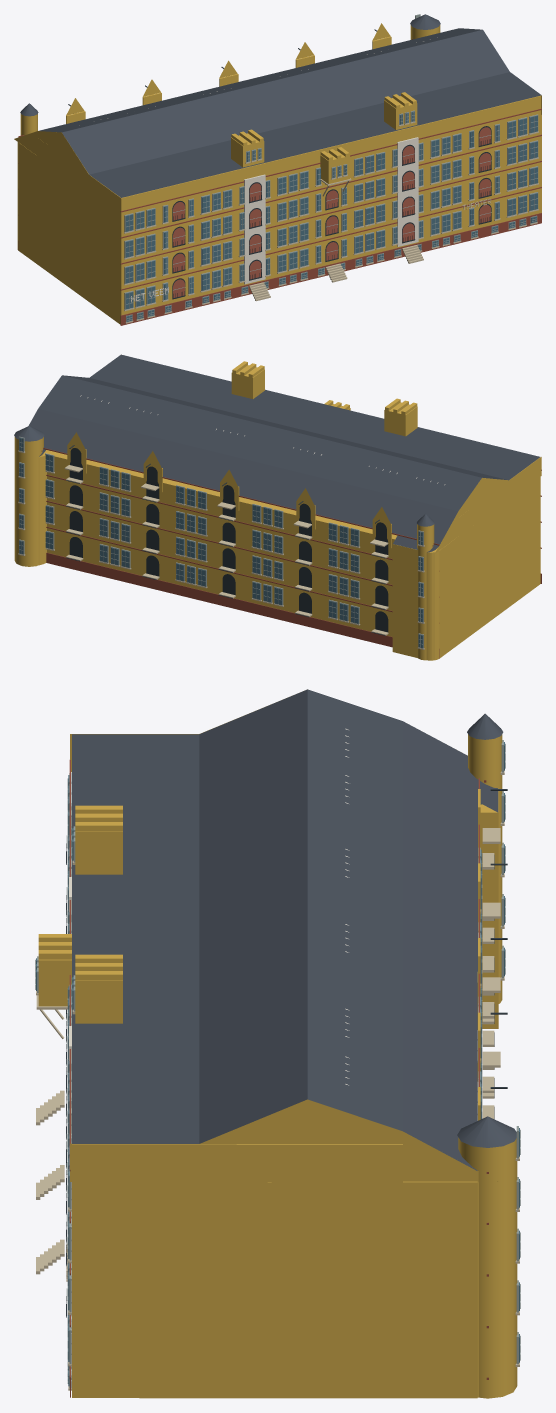
File: het-veem.glb
3 renders of one model, top to bottom at view 1: azimuth 30°, elevation 25°; view 2: azimuth 150°, elevation 25°; view 3: azimuth 270°, elevation 25°, orthographic. The views are drawn at different scales.
Parts seen in each view (by area): view 1: het-veem; view 2: het-veem; view 3: het-veem.
Part boxes in pixels (x1=…): het-veem: x1=14, y1=14, x2=541, y2=325; het-veem: x1=14, y1=354, x2=541, y2=660; het-veem: x1=35, y1=689, x2=520, y2=1398.
Size of the model in its own units: 60.22 by 20.65 by 30.04.
